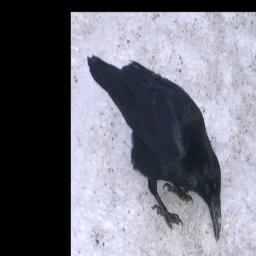Crow: (85, 55, 221, 241)
